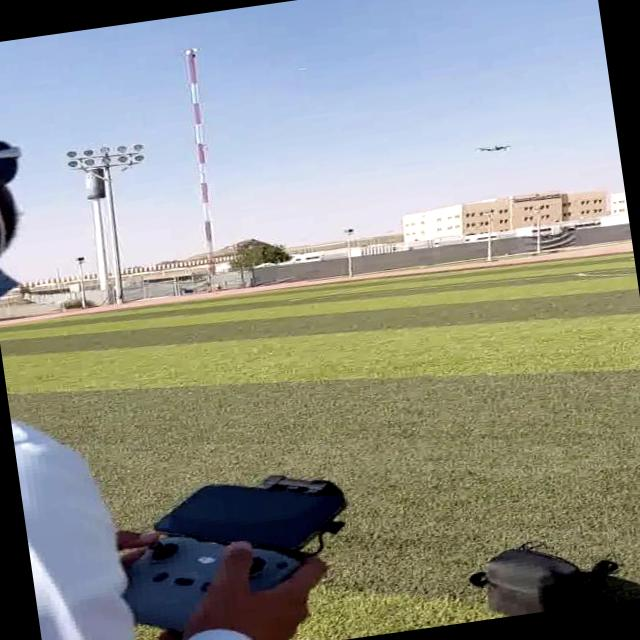drone: (468, 132, 524, 158)
